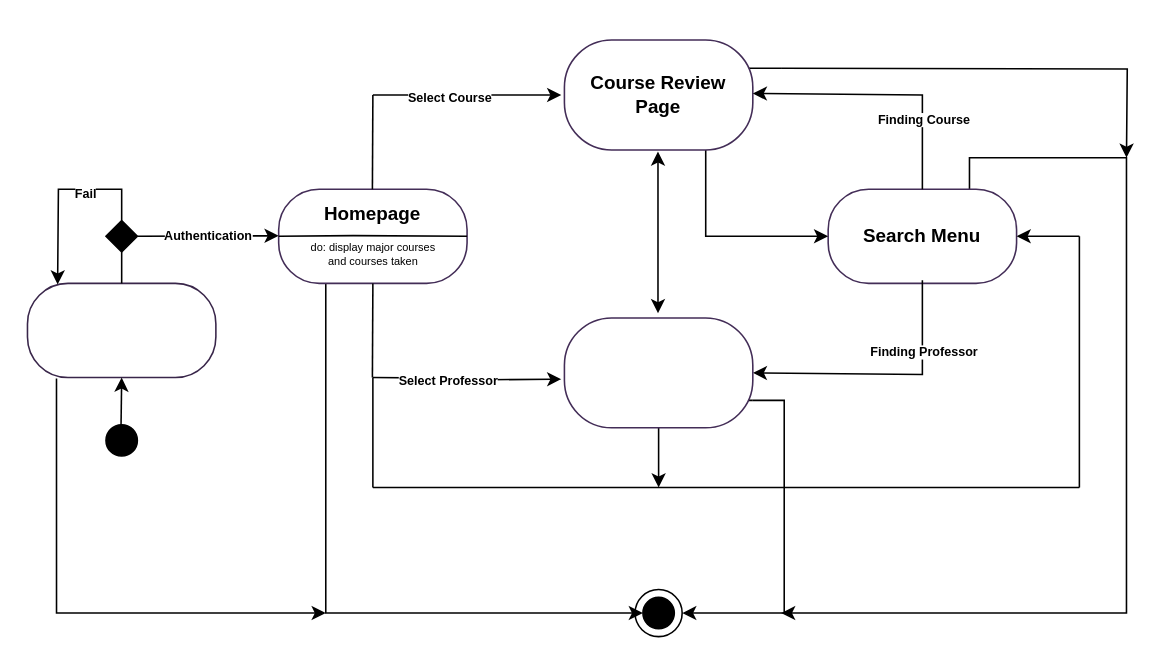
This 1168x664 diagram has some shape labels left out. The centre of each missing label's shape, as x and y in pixels:
"Login" goes at (121,330).
"Professor Review Page" goes at (658,372).
